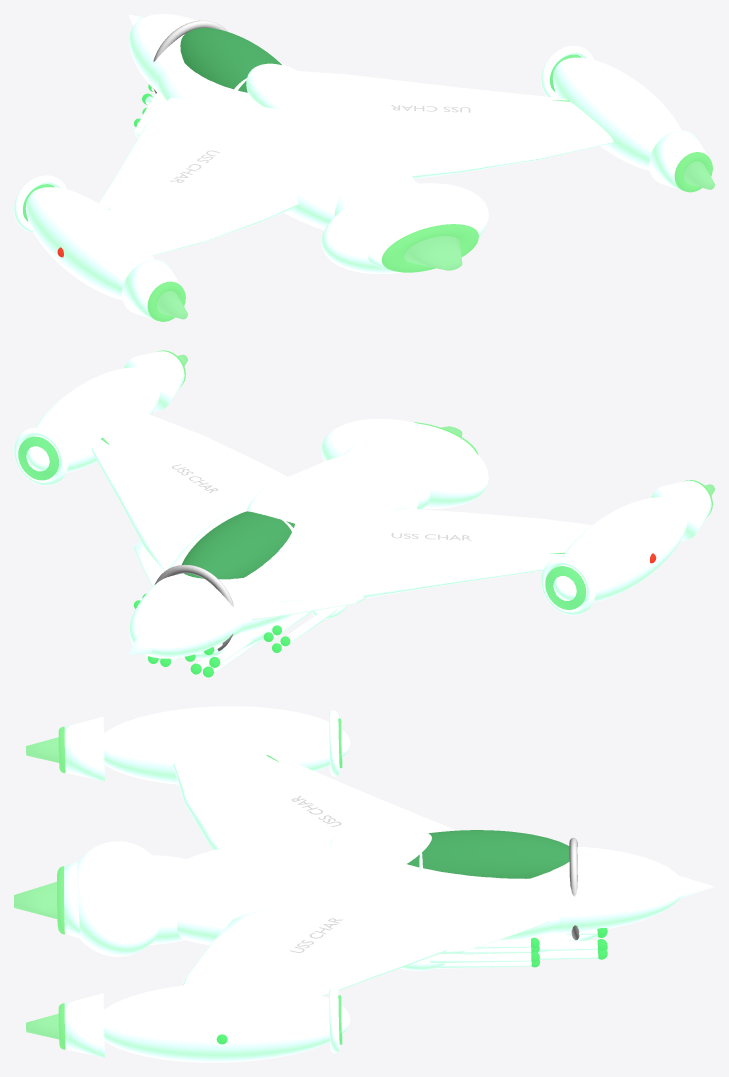
Rendered from uss-char.glb.
3 renders of one model, top to bottom at view 1: azimuth 30°, elevation 25°; view 2: azimuth 150°, elevation 25°; view 3: azimuth 270°, elevation 25°, orthographic. The views are drawn at different scales.
Parts seen in each view (by area): view 1: WingL, WingR, Fuselage, NacelleL, NacelleR, CenterEngine, Dorsal, Canopy, NoseFairing, SensorPod, ThrusterC, NozzleBellL (+12 smaller); view 2: WingL, WingR, Fuselage, NacelleL, NoseFairing, NacelleR, CenterEngine, Canopy, Dorsal, SensorPod, Tail, NozzleBellR (+10 smaller); view 3: WingR, NacelleR, WingL, Fuselage, NacelleL, NoseFairing, CenterEngine, Canopy, Dorsal, SensorPod, Tail, NozzleBellR (+10 smaller).
Part boxes in pixels (x1=…): WingL: x1=98, y1=97, x2=298, y2=255; WingR: x1=298, y1=71, x2=613, y2=178; Fuselage: x1=156, y1=62, x2=414, y2=230; NacelleL: x1=25, y1=187, x2=154, y2=300; NacelleR: x1=552, y1=57, x2=681, y2=170; CenterEngine: x1=321, y1=183, x2=488, y2=273; Dorsal: x1=264, y1=97, x2=391, y2=182; Canopy: x1=180, y1=28, x2=281, y2=92; NoseFairing: x1=129, y1=14, x2=197, y2=92; SensorPod: x1=246, y1=63, x2=318, y2=108; ThrusterC: x1=381, y1=224, x2=478, y2=272; NozzleBellL: x1=122, y1=259, x2=180, y2=319; WingL: x1=280, y1=508, x2=591, y2=602; WingR: x1=91, y1=413, x2=287, y2=571; Fuselage: x1=168, y1=468, x2=420, y2=633; NacelleL: x1=553, y1=497, x2=687, y2=602; NoseFairing: x1=129, y1=573, x2=246, y2=658; NacelleR: x1=26, y1=367, x2=160, y2=472; CenterEngine: x1=321, y1=418, x2=488, y2=508; Canopy: x1=182, y1=511, x2=294, y2=579; Dorsal: x1=288, y1=452, x2=391, y2=511; SensorPod: x1=247, y1=480, x2=318, y2=523; Tail: x1=343, y1=436, x2=430, y2=509; NozzleBellR: x1=124, y1=351, x2=184, y2=411; WingR: x1=182, y1=899, x2=508, y2=996; NacelleR: x1=103, y1=982, x2=350, y2=1062; WingL: x1=173, y1=755, x2=456, y2=849; Fuselage: x1=177, y1=864, x2=560, y2=945; NacelleL: x1=103, y1=706, x2=350, y2=784; NoseFairing: x1=530, y1=846, x2=680, y2=932; CenterEngine: x1=77, y1=841, x2=160, y2=956; Canopy: x1=407, y1=830, x2=569, y2=878; Dorsal: x1=181, y1=837, x2=367, y2=882; SensorPod: x1=329, y1=823, x2=431, y2=865; Tail: x1=138, y1=855, x2=190, y2=944; NozzleBellR: x1=64, y1=993, x2=104, y2=1057.
Bounding box in the file's own units: 8.21 × 1.53 × 7.73.
